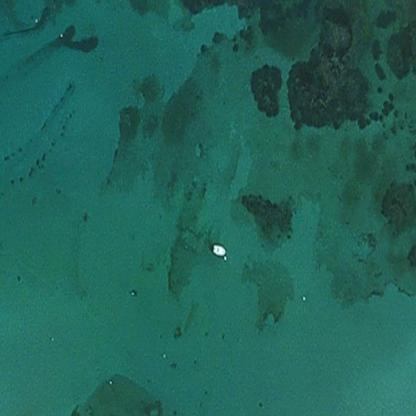ship: (206, 235, 232, 262)
